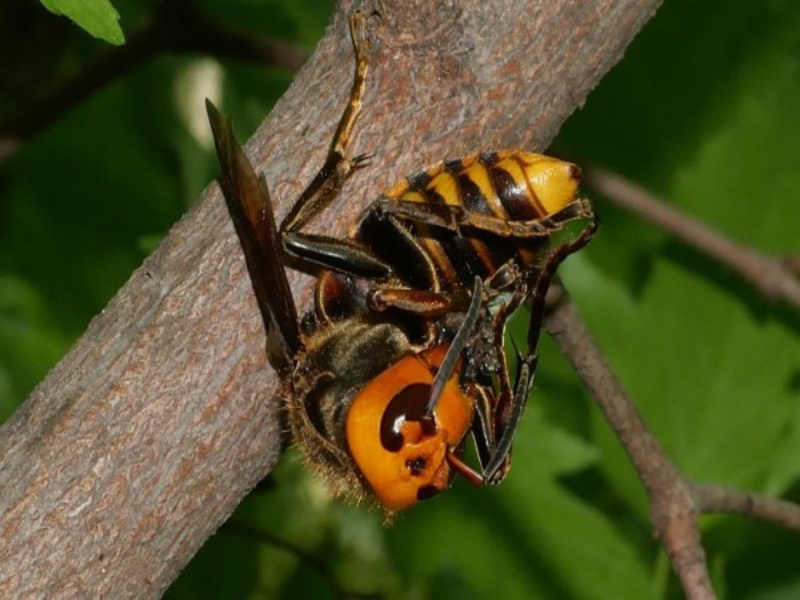asian_giant_hornet: (277, 147, 593, 524)
